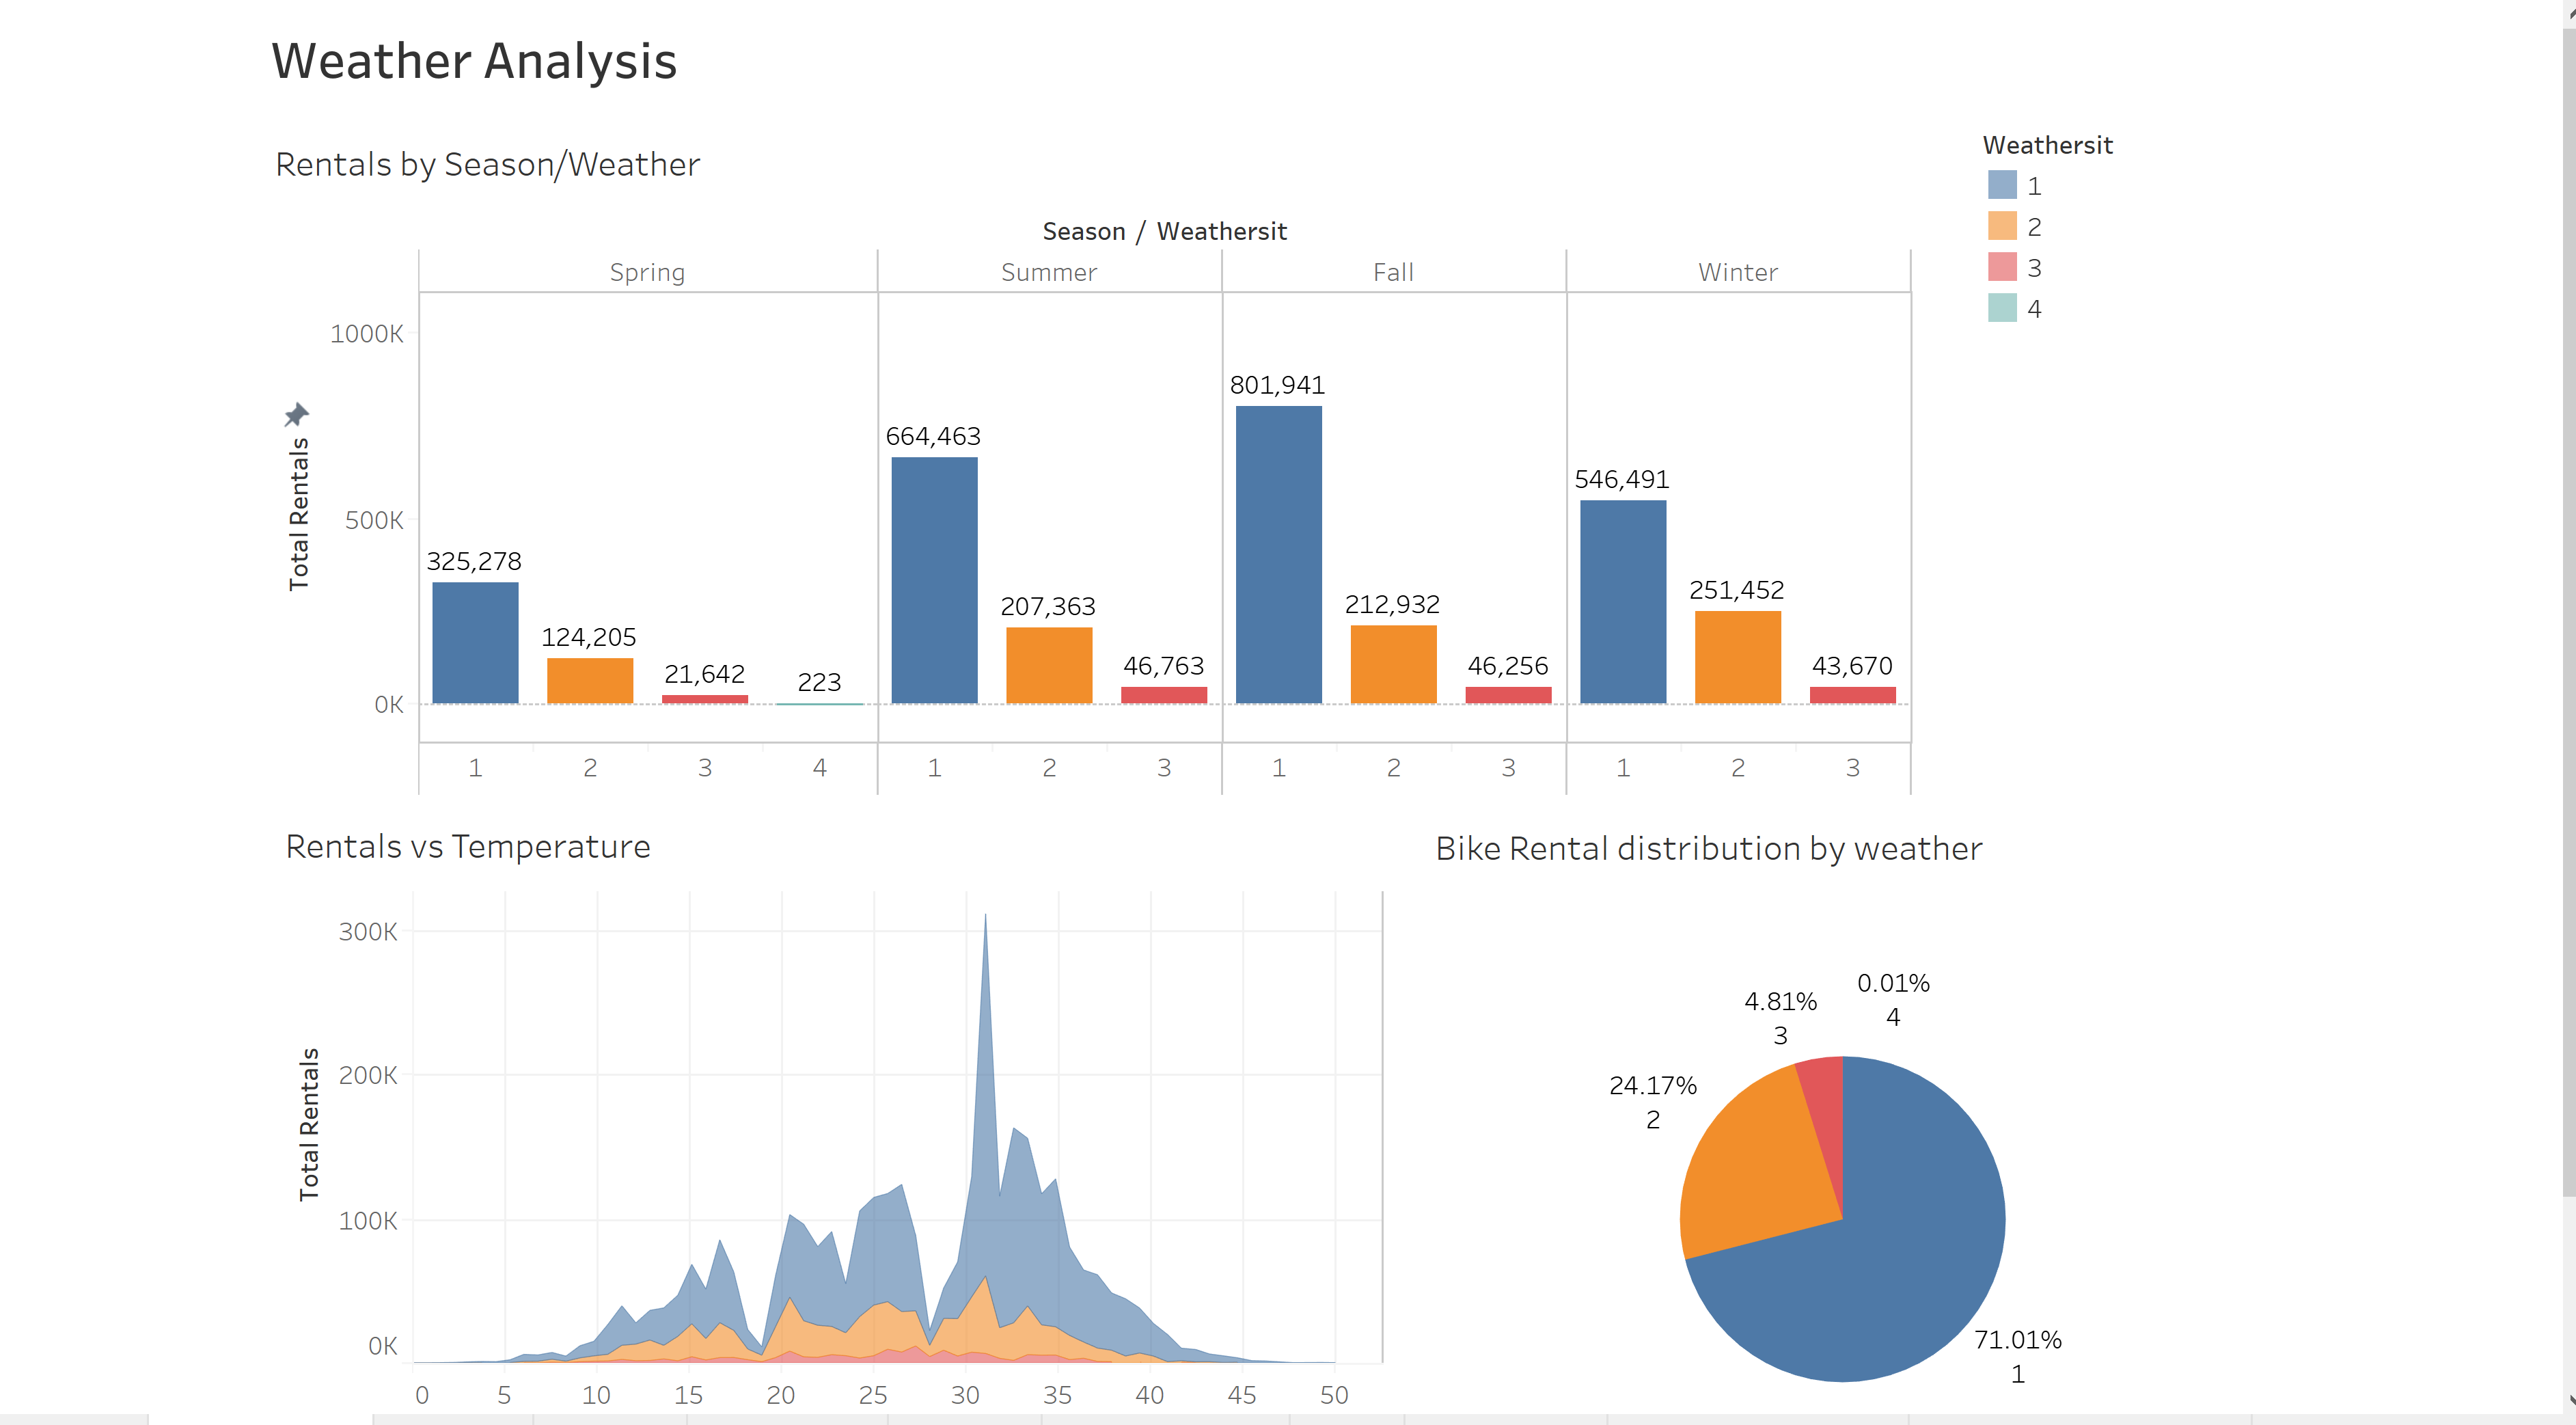

The page's visual inventory and layout, read from the dashboard file:
{"tool":"tableau","page":{"name":"Season-Weather","canvas":[1000,800],"ordinal":1},"visuals":[{"type":"title","box":[8,8,984,41]},{"type":"legend","title":"Total Rental vs Weather & Temp","param":"[federated.0spbyxi0awvzr61dq74bt0s79dd6].[none:weathersit:ok]","box":[850,62,134,144]},{"type":"worksheet","title":"Rentals by Season/Weather","mark":"Automatic","rows":["cnt"],"cols":["season","weathersit"],"box":[13,64,841,326]},{"type":"worksheet","title":"Total Rental vs Weather & Temp","mark":"Area","rows":["cnt"],"cols":["Calculation_1051872021216083968"],"box":[18,397,605,338]},{"type":"worksheet","title":"Ride Dist Weather","mark":"Pie","box":[579,398,406,356]},{"type":"text","box":[6,716,654,88]}]}

Visuals, with their boxes on the page's 1000x800 design canvas (x1, y1, x2, y2). These are canvas units, not pixel positions in the 2576x1425 screenshot, which may show the page scaled, cropped or inside an application window:
title: rect(8, 8, 992, 49)
"Total Rental vs Weather & Temp" legend: rect(850, 62, 984, 206)
"Rentals by Season/Weather" worksheet: rect(13, 64, 854, 390)
"Total Rental vs Weather & Temp" worksheet (Area marks): rect(18, 397, 623, 735)
"Ride Dist Weather" worksheet (Pie marks): rect(579, 398, 985, 754)
text: rect(6, 716, 660, 804)
